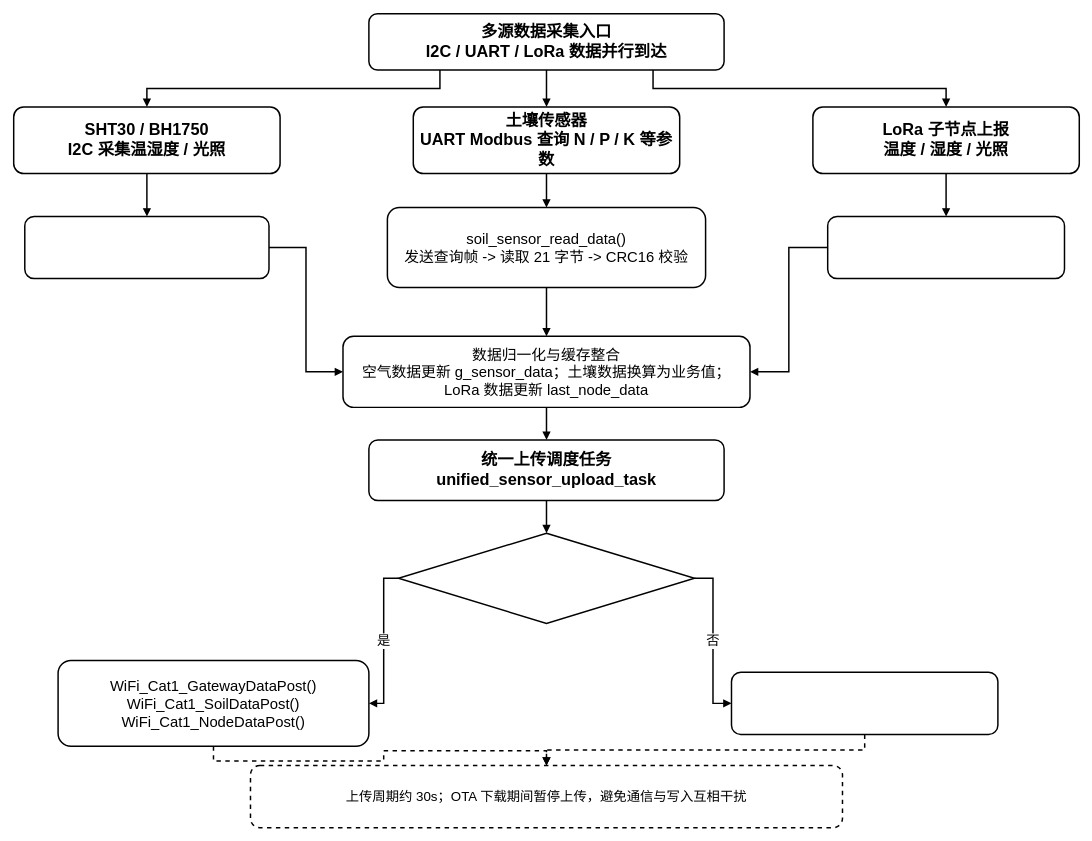
Image size: 1092x841. Some labels were removed from this diagram. The centre of each missing label's shape, as x and y in pixels:
"iic_sensor_task 周期读取 更新 g_sensor_data" belongs at (146,247).
"LoRa 帧解析成功后 更新 last_node_data 缓存" belongs at (946,247).
"当前是否允许上传？ (MQTT 已连接且未处于 OTA 中)" belongs at (546,578).
"暂不上传，进入下一轮判断" belongs at (864,703).
